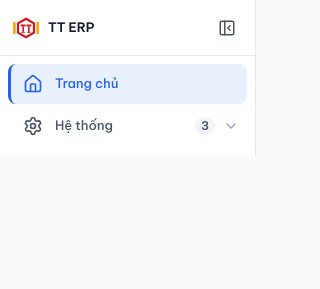
Sidebar › bấm chevron CHỈ thu/mở, không điều hướng; nhiều module mở độc lập
Click the button named "Mở rộng Hệ thống".
click(231, 126)  # box [215,110,247,142]
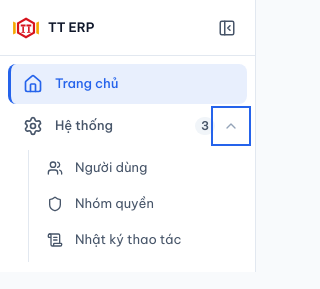
Expected: the link "Người dùng" is shown, [47,159,147,176]
Click the button named "Thu gọn Hệ thống".
click(231, 126)  # box [215,110,247,142]
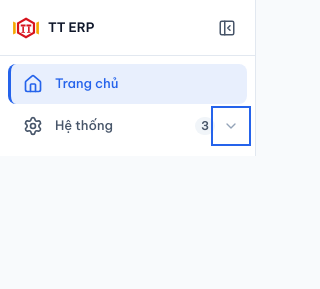
Expected: the link "Người dùng" is gone
